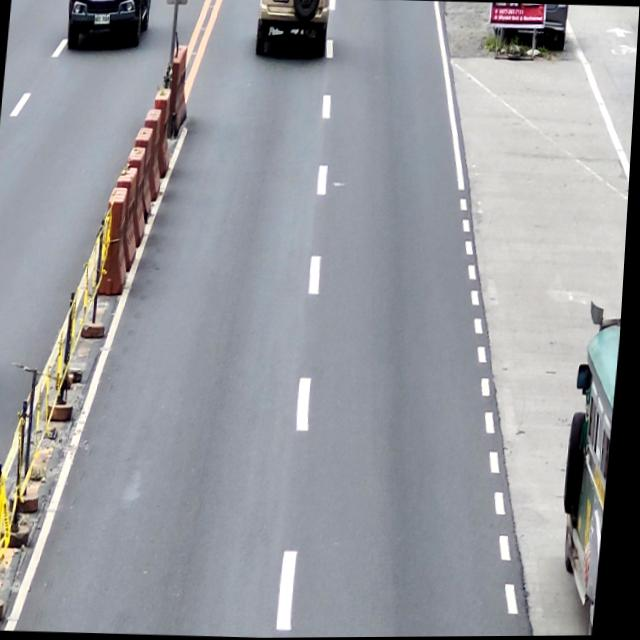Car: (253, 0, 332, 63)
Jeep: (557, 311, 625, 637)
